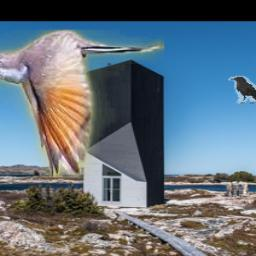Crow: (229, 76, 256, 104)
Cuckoo: (0, 30, 164, 177)
